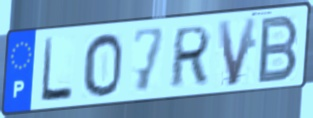7: (131, 25, 166, 97)
B: (255, 12, 301, 86)
L: (39, 36, 75, 106)
O: (82, 31, 124, 99)
R: (167, 23, 213, 92)
V: (215, 14, 260, 89)
